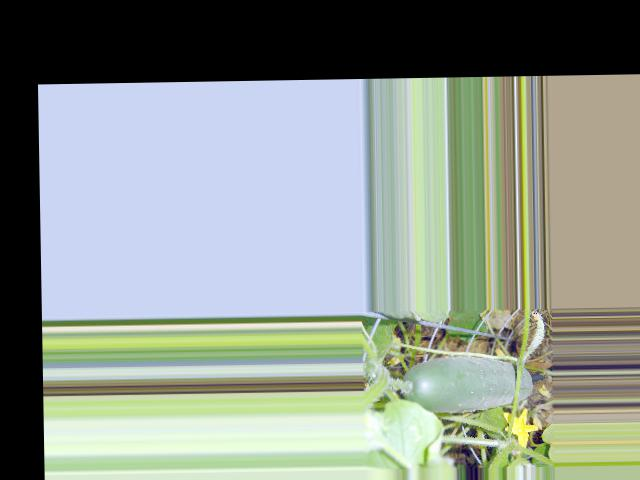cucumber: (401, 353, 532, 413)
